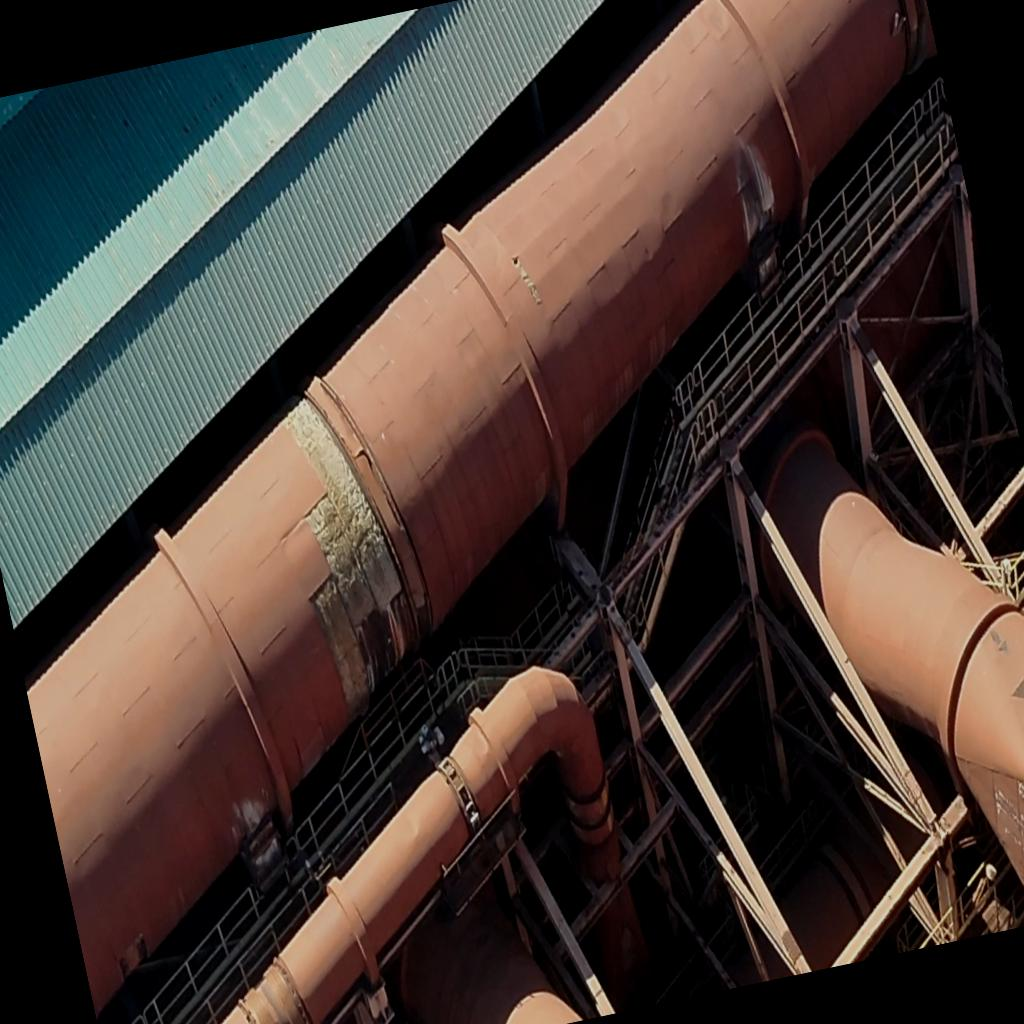Failures: (272, 390, 430, 712)
